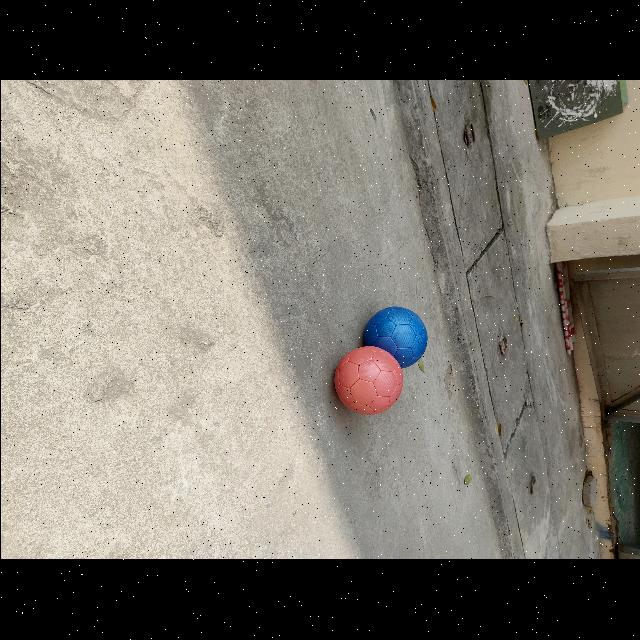B: (363, 307, 426, 368)
R: (333, 346, 402, 415)
